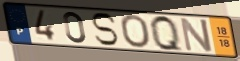0: (62, 11, 87, 45)
4: (34, 9, 57, 42)
N: (179, 16, 215, 53)
O: (118, 14, 152, 50)
Q: (148, 14, 186, 54)
S: (90, 12, 120, 48)
